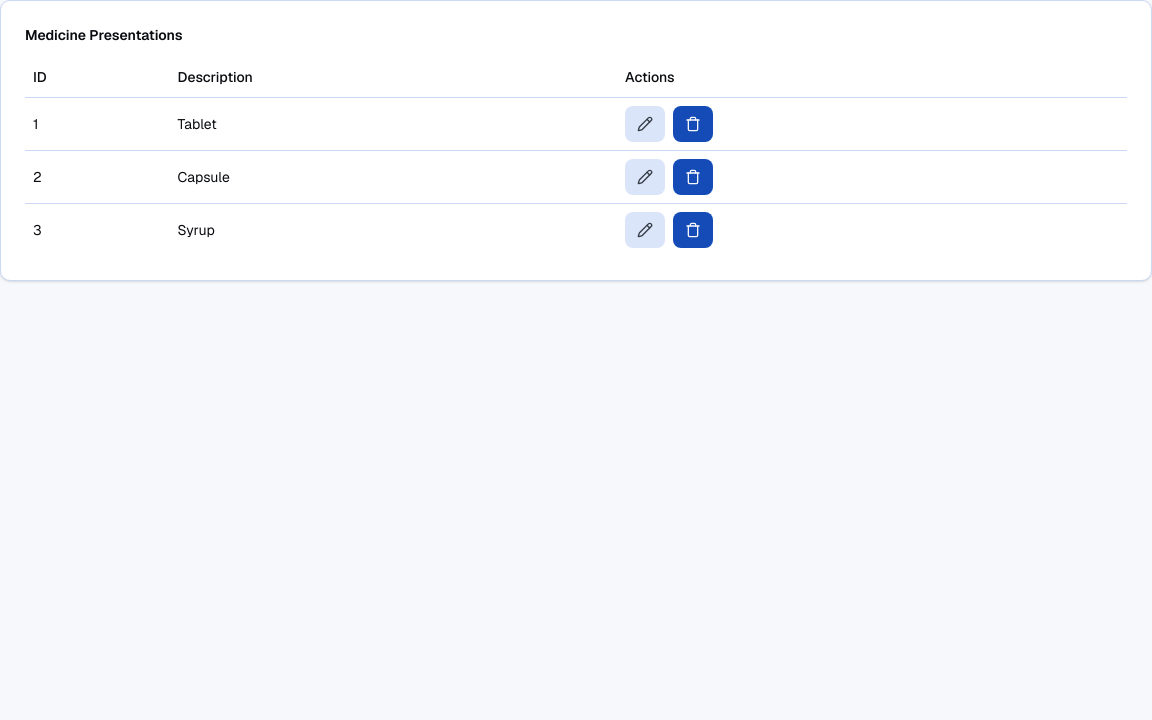
Test: [MedicinePresentationTable] › Delete Functionality › displays delete confirmation dialog with replacement select when delete button is clicked
What coordinates should you click on to do the following:
click the button named "Delete" in the row of "Tablet"
I would click on:
 (693, 124)
Its box is x1=673 y1=106 x2=713 y2=142.
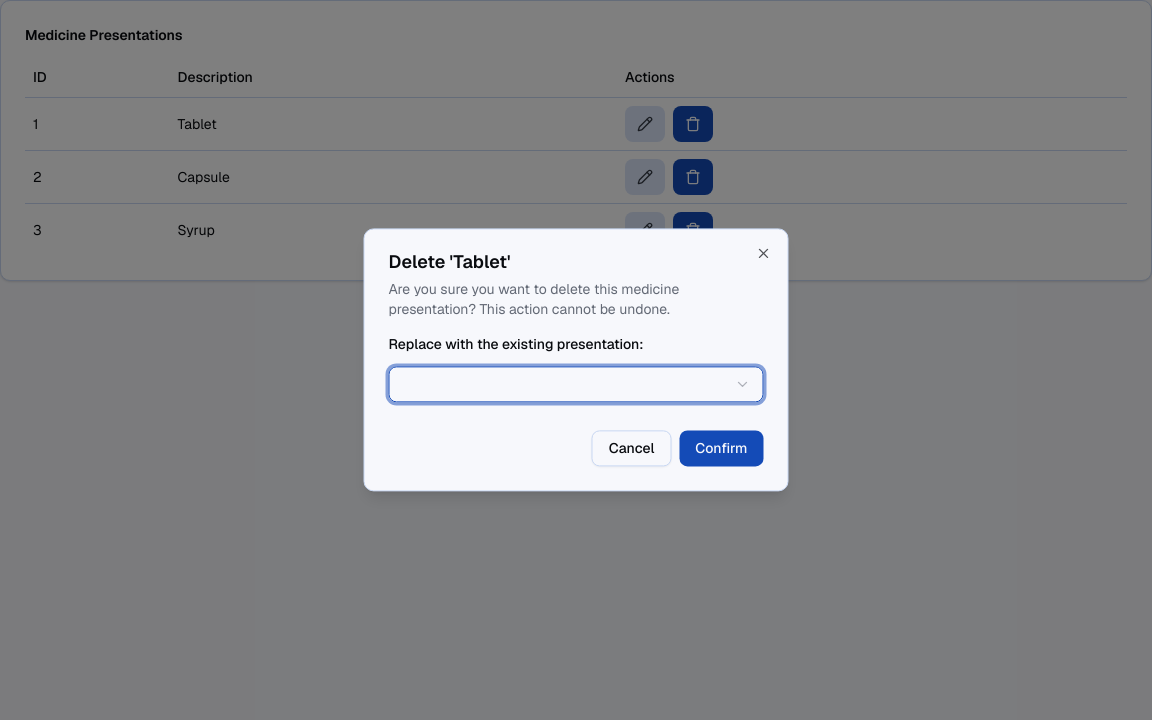
Expected: the text "Are you sure you want to delete this medicine presentation? This action cannot be undone." is shown, x1=388 y1=280 x2=679 y2=318
Expected: the dialog shows "Tablet", x1=388 y1=250 x2=510 y2=273
Expected: the dialog shows "Replace with the existing presentation:", x1=388 y1=335 x2=644 y2=353
